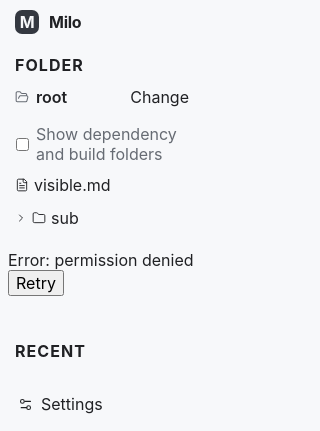
it: folder expansion and request lifetimes › loads only an expanded directory, retries locally and pages without replacing existing files
Check: the message shows "permission denied", box [8, 250, 194, 270]
Check: the button "visible.md" is shown, box [8, 169, 201, 201]
Click the button "Retry" at (36, 283), box [8, 270, 64, 296]
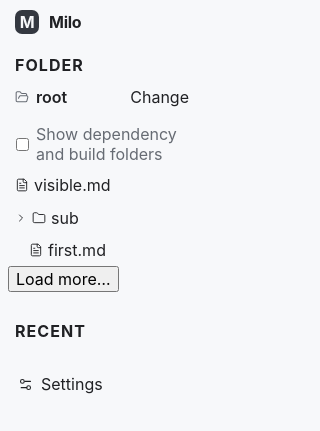
Check: the button "first.md" is shown, box [8, 234, 201, 266]
Click the button "Load more…" at (63, 279), box [8, 266, 119, 292]
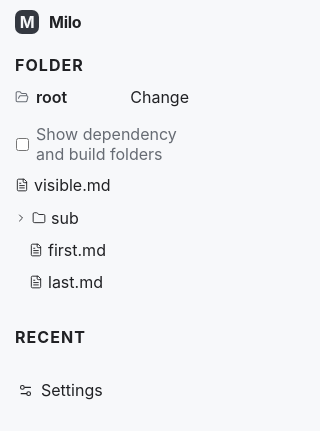
Check: the button "first.md" is shown, box [8, 234, 201, 266]
Check: the button "last.md" is shown, box [8, 266, 201, 298]
